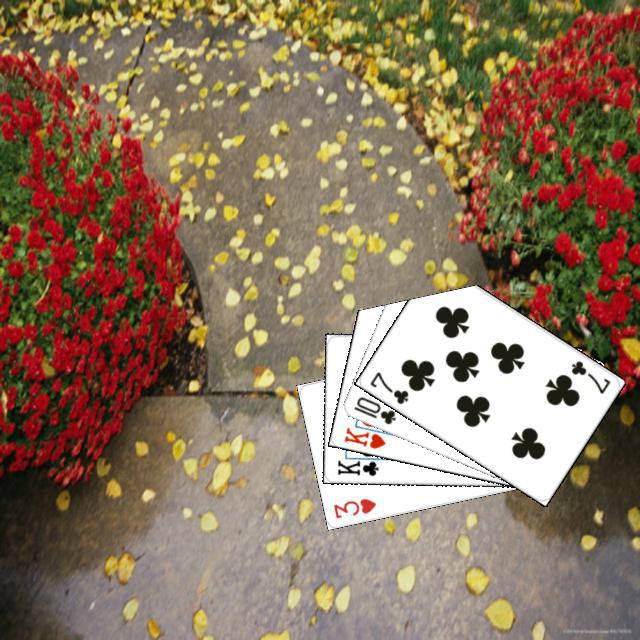10c: (349, 392, 398, 426)
3h: (329, 493, 378, 520)
7c: (566, 356, 612, 396), (365, 367, 410, 406)
Kc: (332, 451, 385, 477)
Kh: (339, 418, 393, 450)
